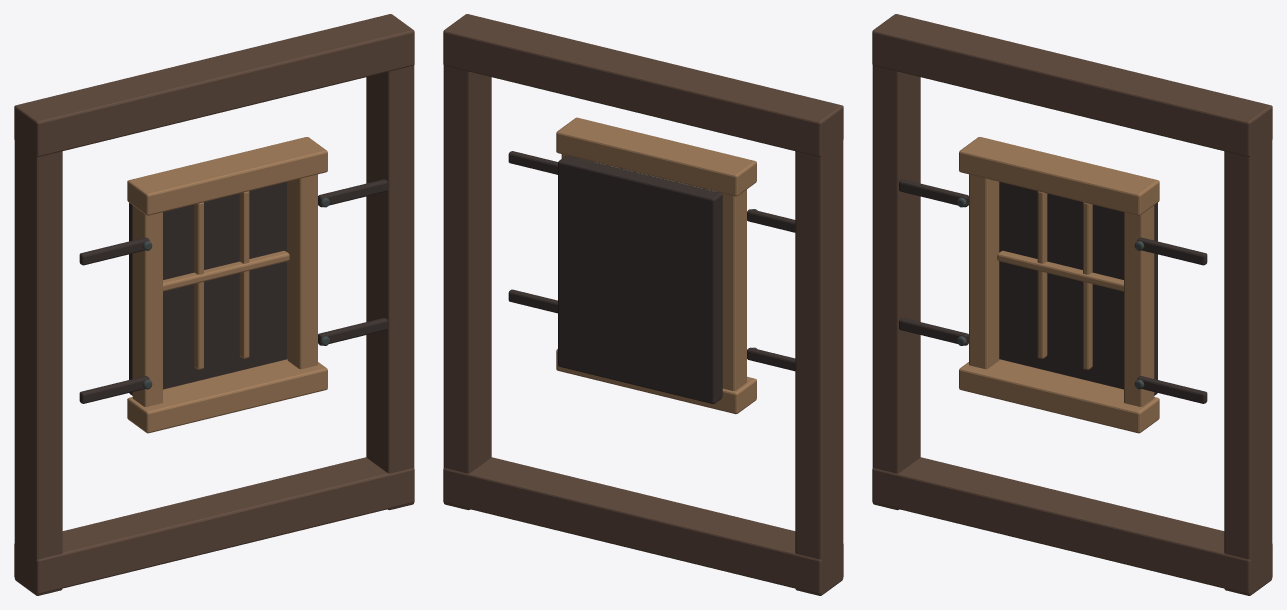
File: wall_window_2m__structure.glb
3 renders of one model, left to right at view 1: azimuth 30°, elevation 25°; view 2: azimuth 150°, elevation 25°; view 3: azimuth 330°, elevation 25°, orthographic.
Parts seen in each view (by area): view 1: wall_window_2m__structure__mesh_00; view 2: wall_window_2m__structure__mesh_00; view 3: wall_window_2m__structure__mesh_00.
Boxes of the visible parts, x1,y1,x2,y2 form: wall_window_2m__structure__mesh_00: (14, 14, 414, 595); wall_window_2m__structure__mesh_00: (443, 14, 843, 595); wall_window_2m__structure__mesh_00: (872, 14, 1272, 595).
Bounding box in the file's own units: 2 × 2.4 × 0.325.
